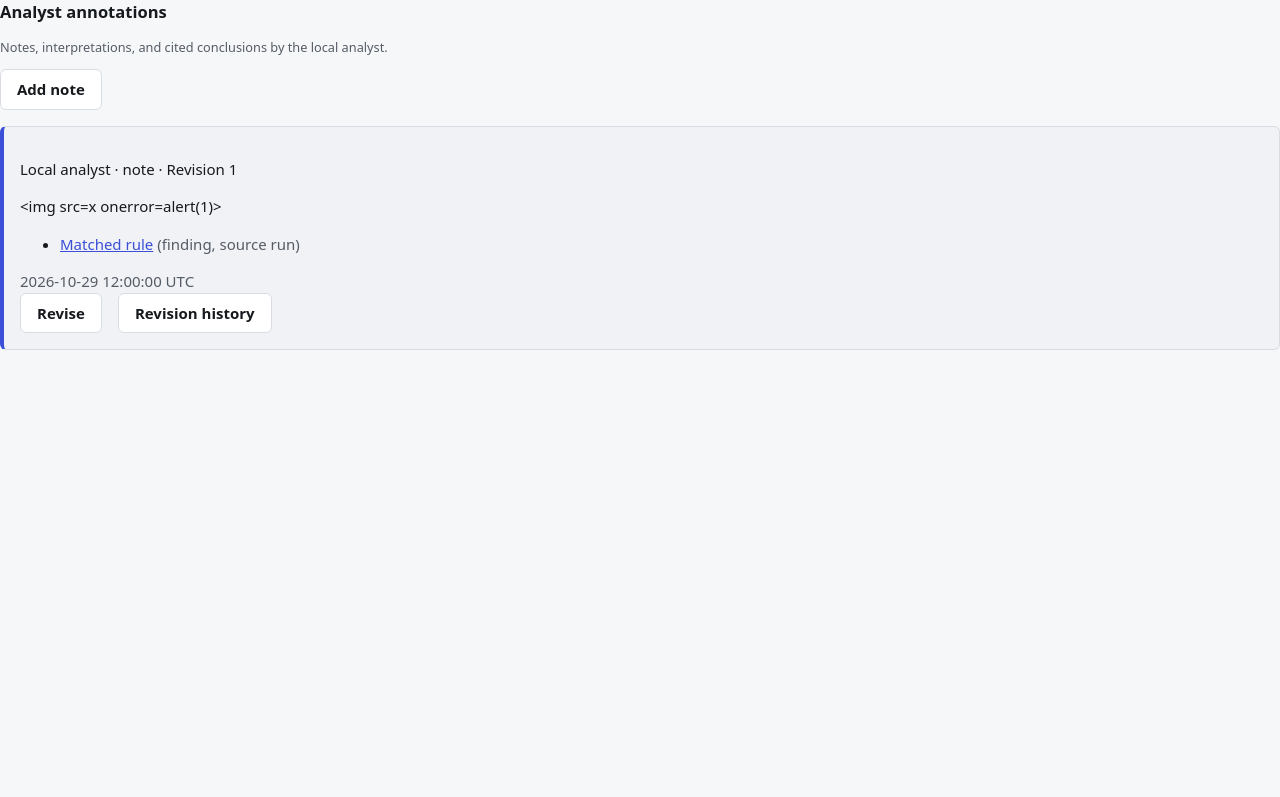
Annotations › validates then creates a cited conclusion
Click the button "Add note": (51, 90) [0,69,102,110]
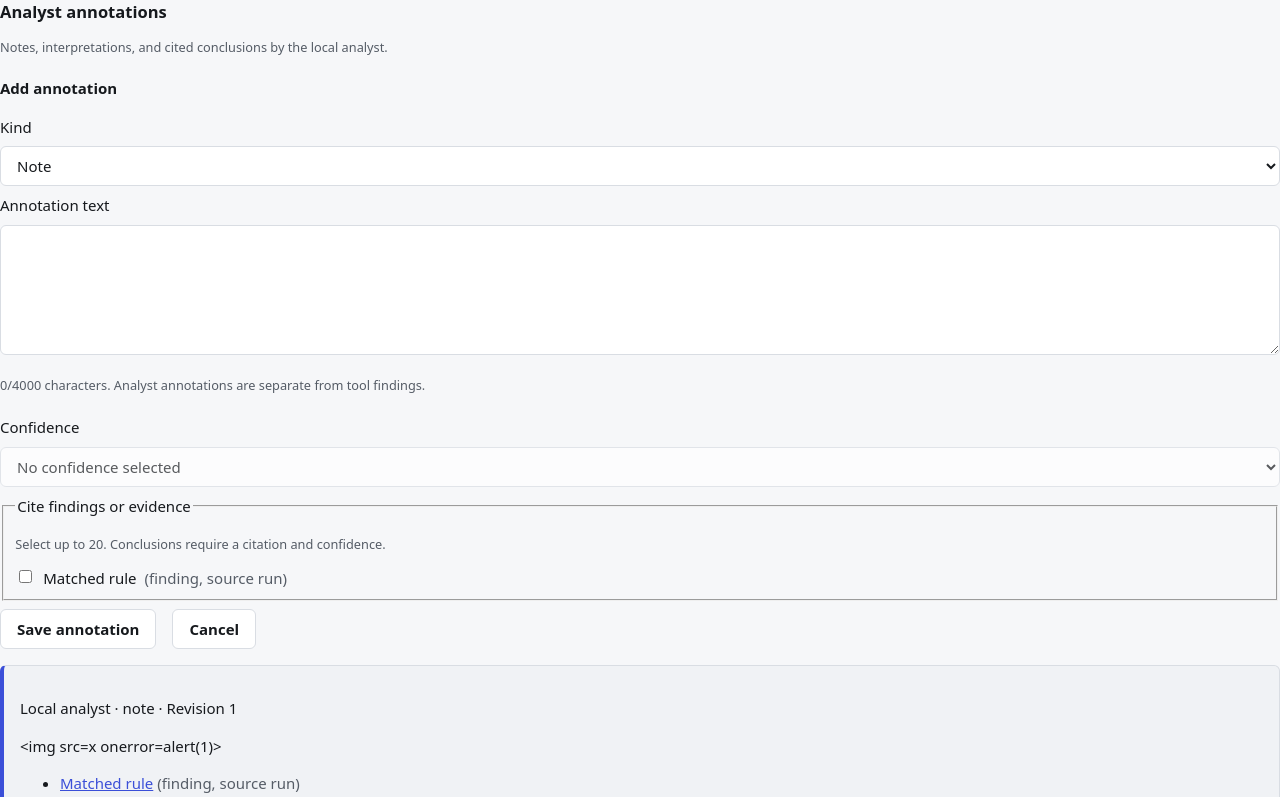
Select "Conclusion" in the dropdown labelled "Kind": (640, 166) [0,146,1279,186]
In the text box labelled "Annotation text": (640, 290) [0,225,1279,355], type "Reasoned statement"
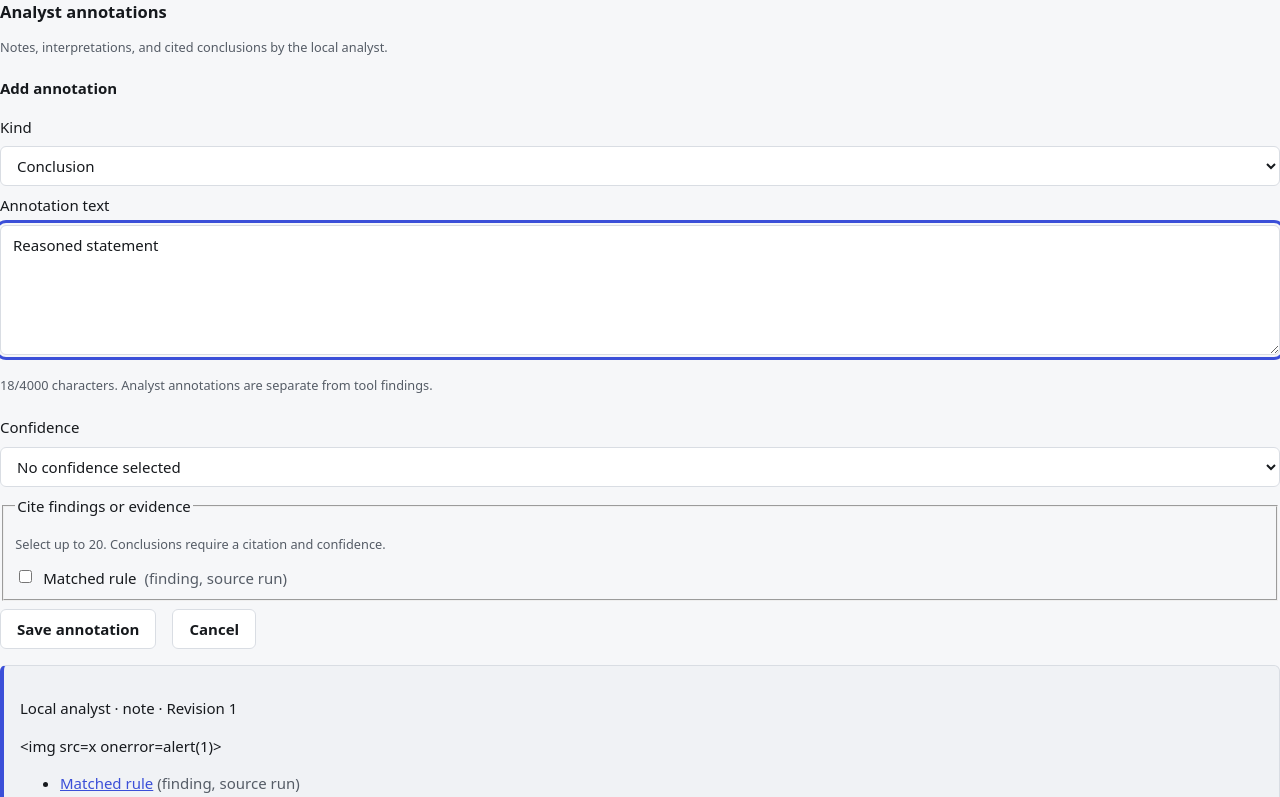
Click the button "Save annotation": (78, 629) [0,609,156,649]
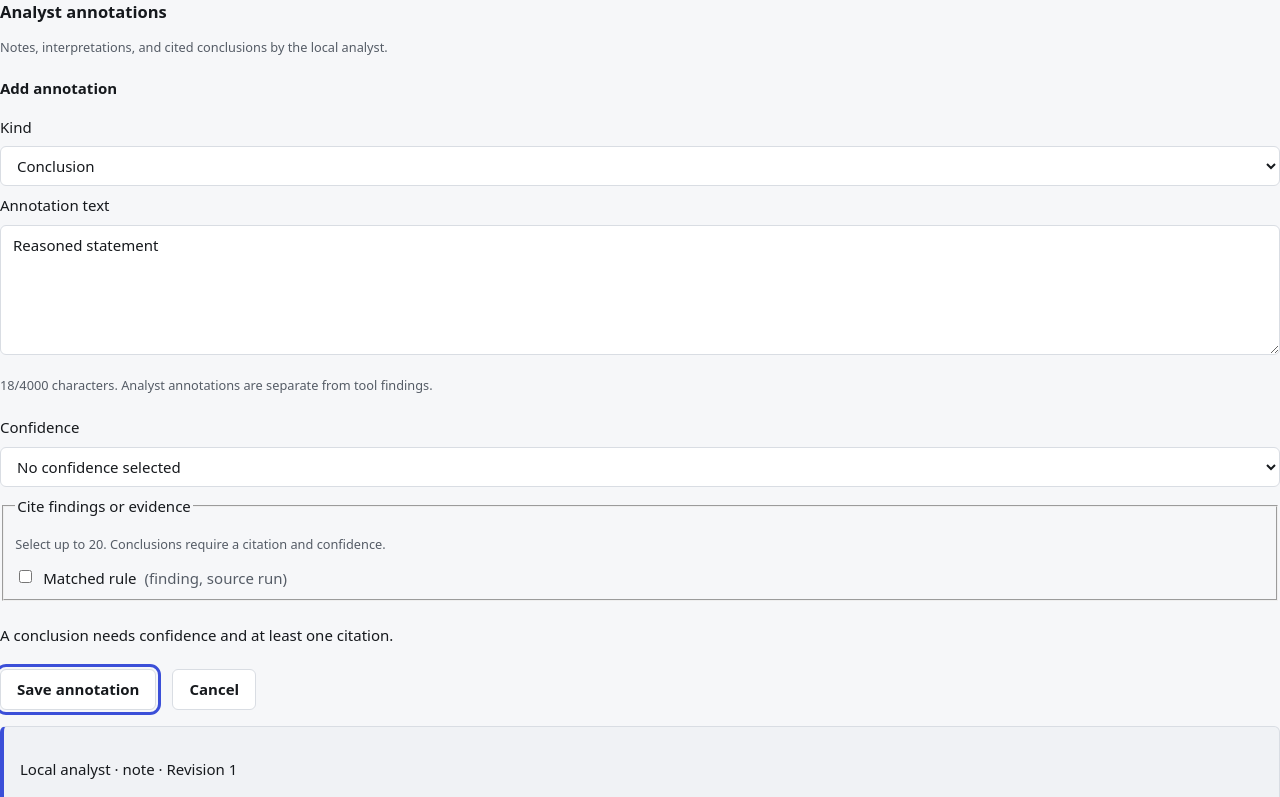
Now the message shows "confidence and at least one citation", box [0,625,393,645]
Select "Likely" in the dropdown labelled "Confidence": (640, 466) [0,446,1279,486]
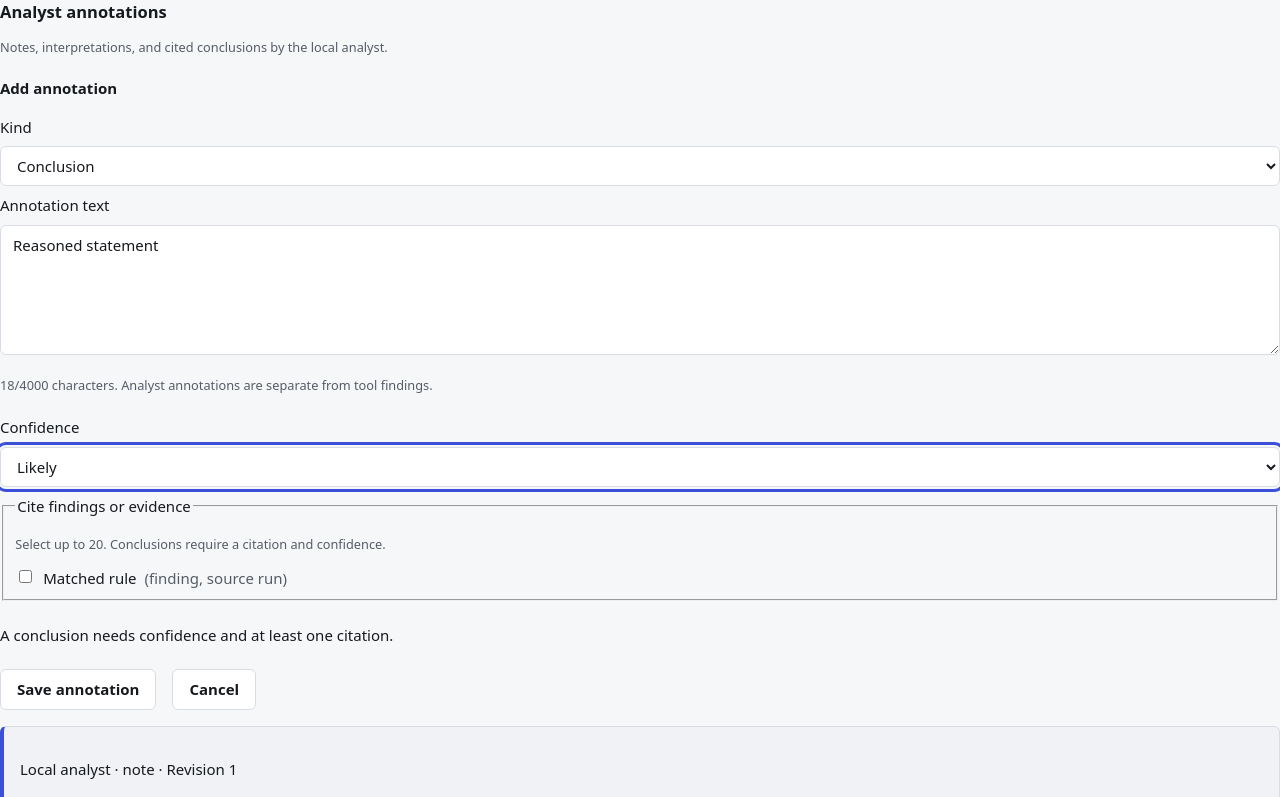
Click the checkbox labelled "Matched rule (finding, source run)": (26, 576) [19,570,32,583]
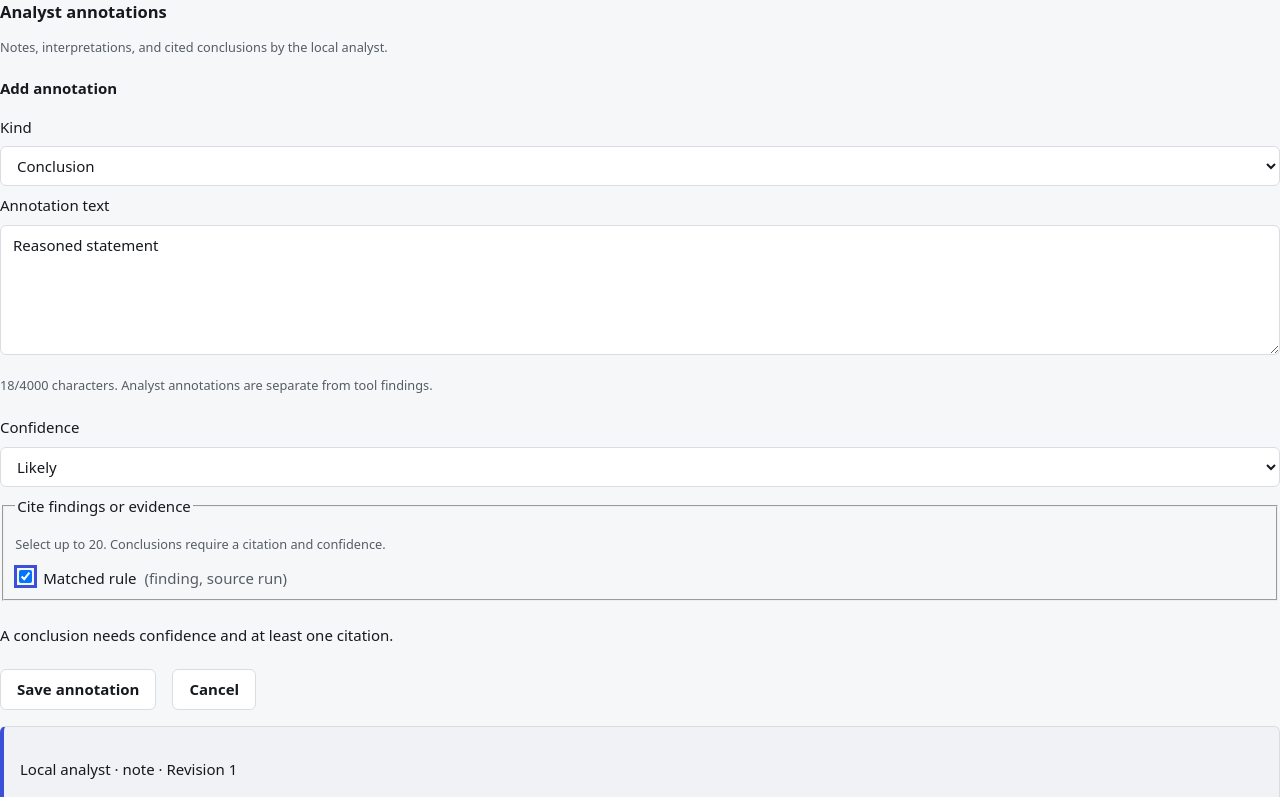
Click the button "Save annotation": (78, 690) [0,669,156,710]
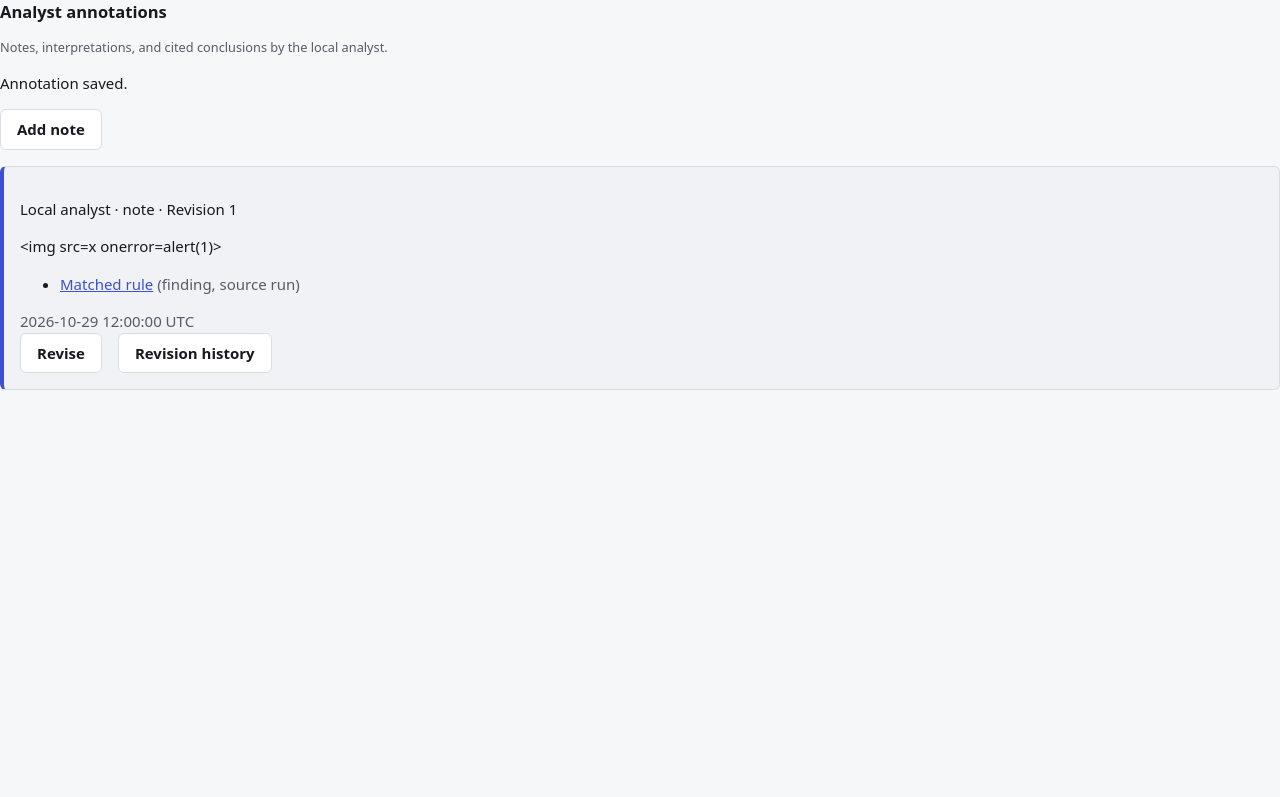
Now the text "Annotation saved." is shown, box [0,73,128,93]
